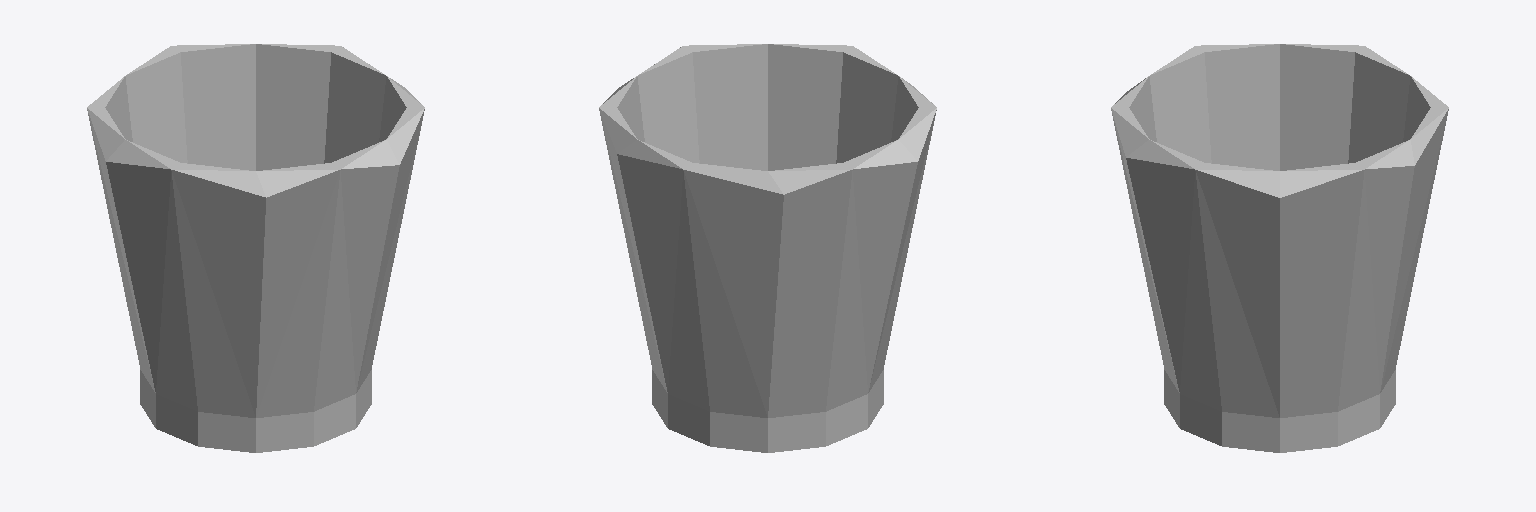
The model's file is shot(hope).obj.
The picture shows the model from 3 angles: view 1: azimuth 30°, elevation 25°; view 2: azimuth 150°, elevation 25°; view 3: azimuth 270°, elevation 25°; orthographic projection.
Size of the model in its own units: 0.18 by 0.17 by 0.1757.